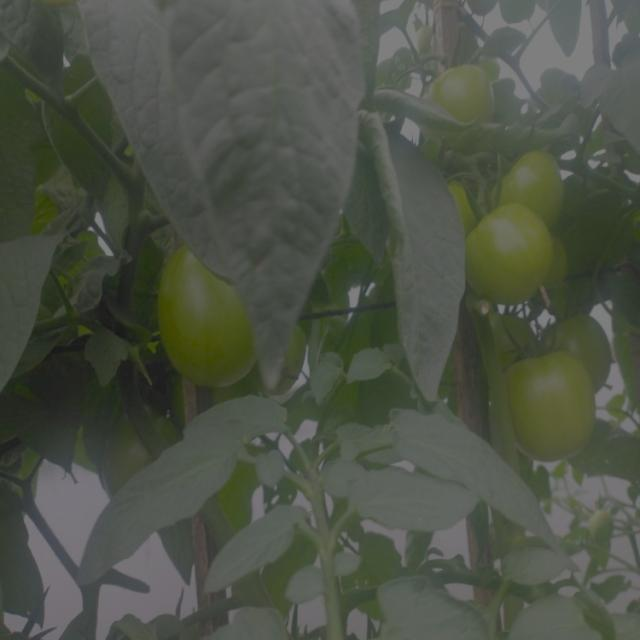tomato: (159, 240, 257, 382), (507, 356, 606, 463), (462, 205, 563, 305), (417, 52, 497, 150), (502, 146, 569, 222), (557, 312, 618, 371), (487, 309, 535, 356), (442, 174, 476, 225)
